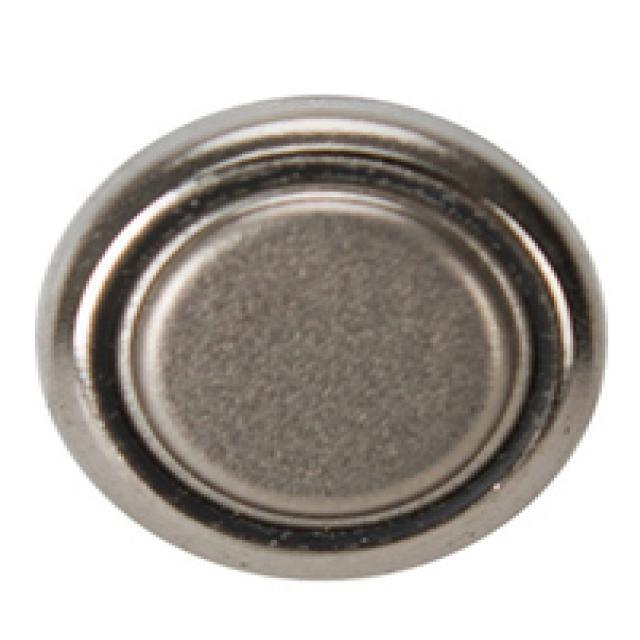COIN: (31, 89, 608, 581)
